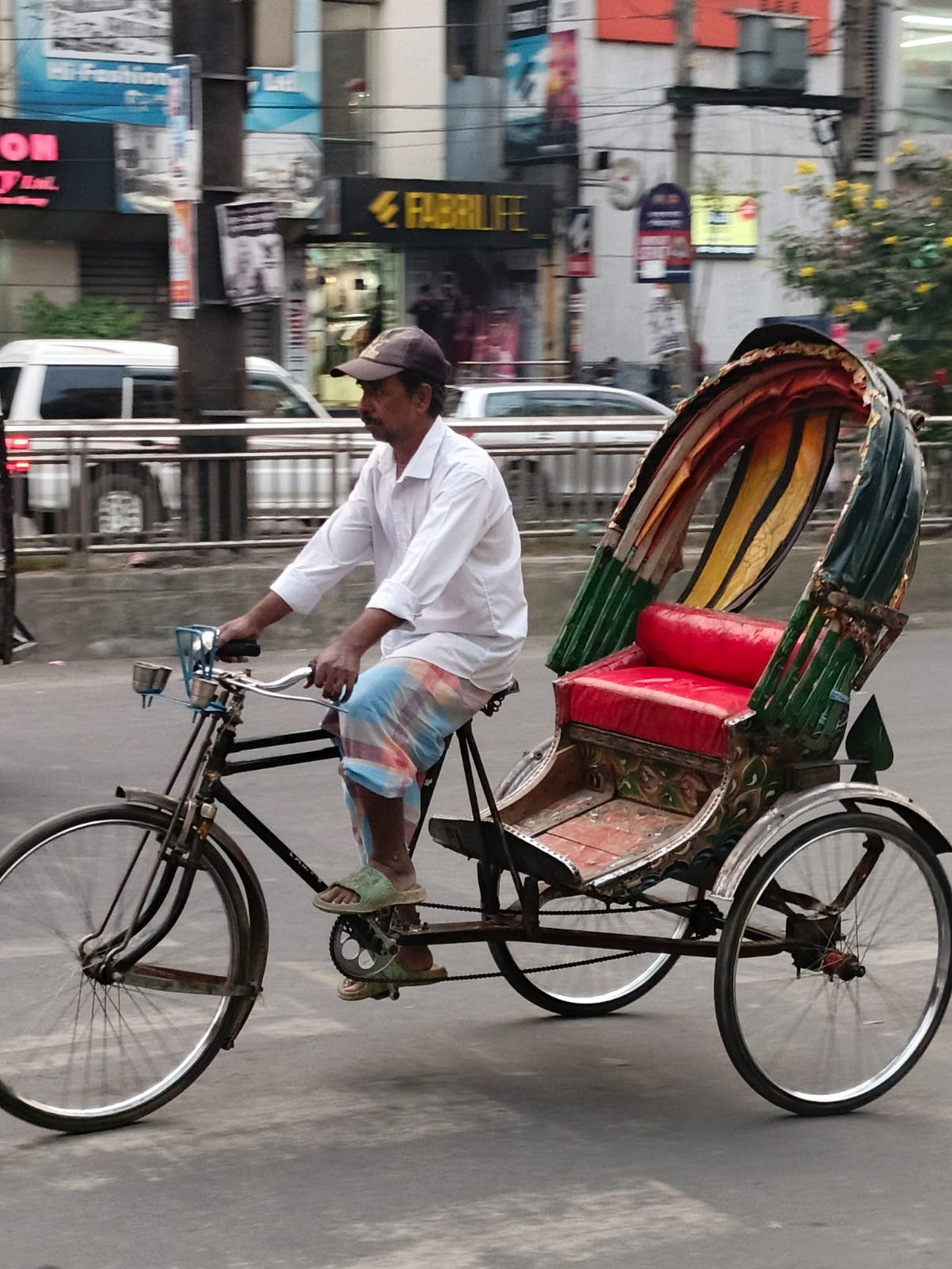auto-ricksaw: (12, 299, 952, 1144)
